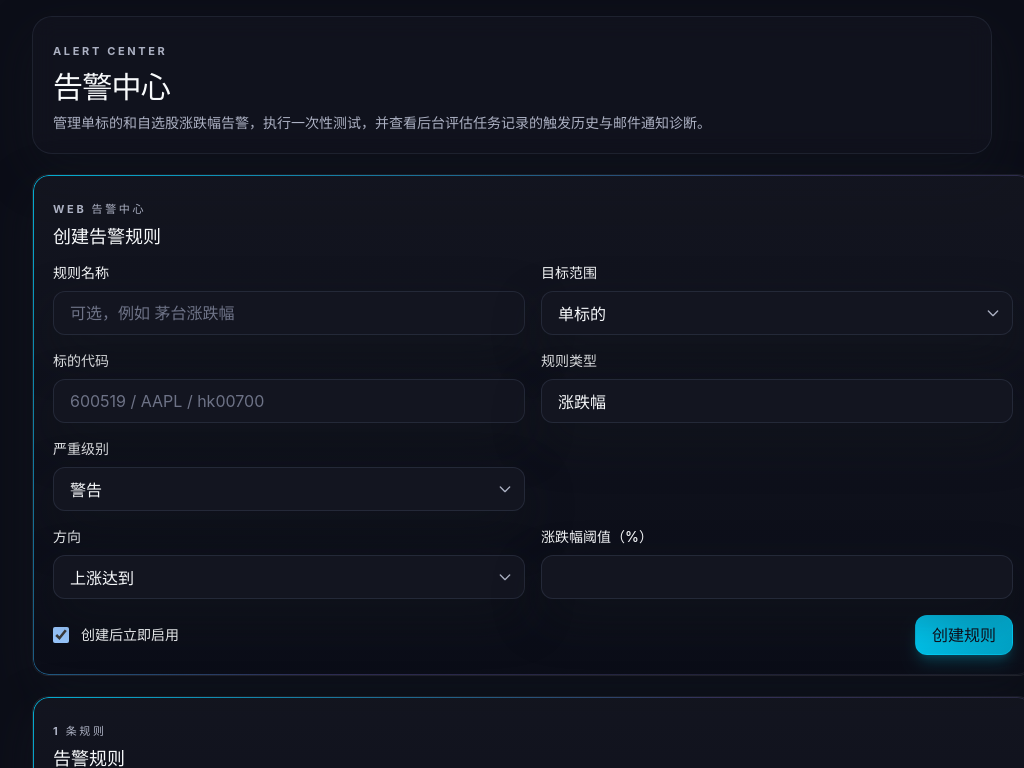
Test: AlertsPage › creates a rule through the page form and reloads rules
Type "aapl" into the field labelled "标的代码".
click(289, 401); type("aapl")  # box [53,379,525,423]
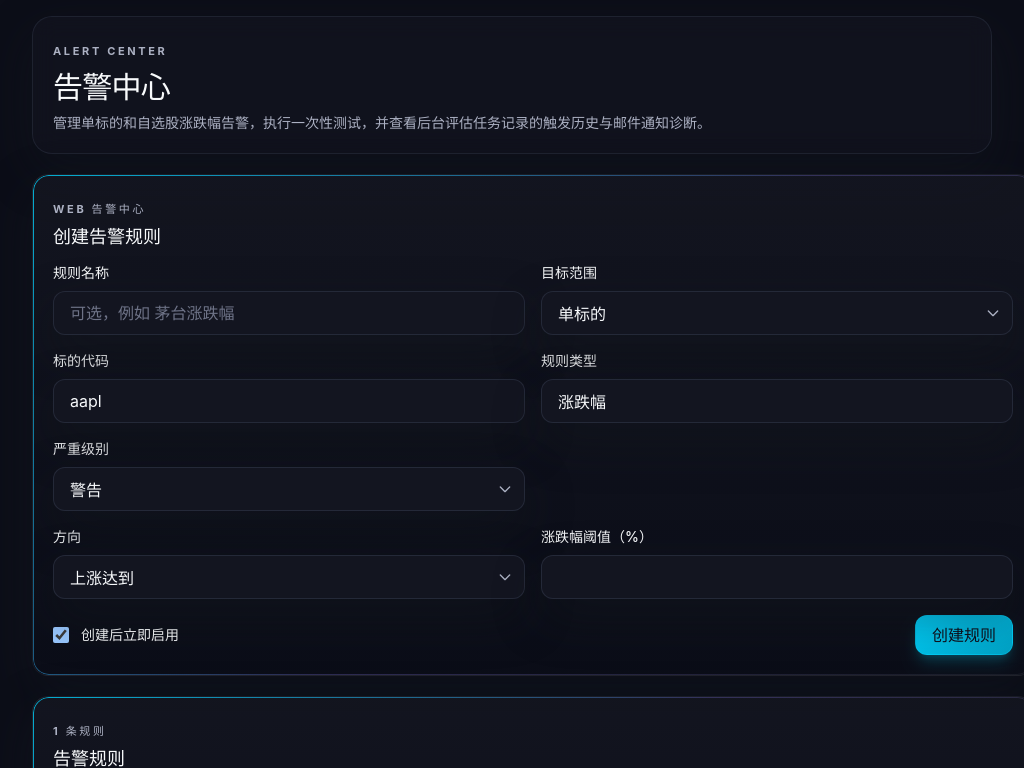
Type "2" into the number field labelled "涨跌幅阈值（%）".
click(777, 577); type("2")  # box [541,555,1013,599]
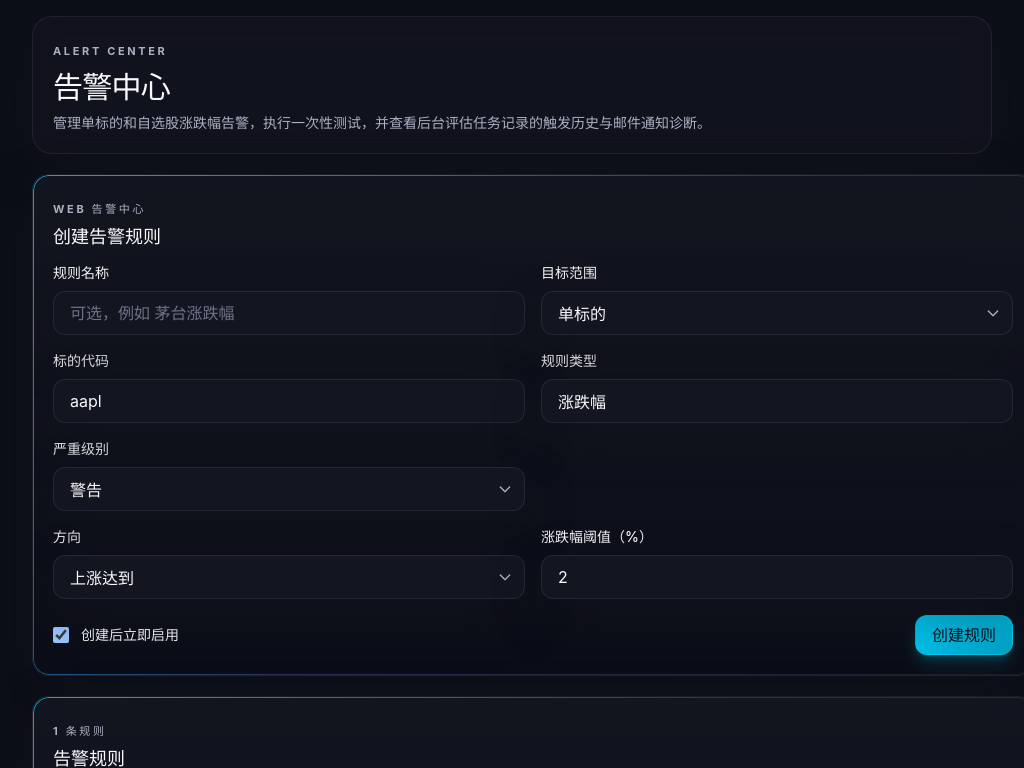
Click the button "创建规则".
click(964, 635)  # box [915,615,1013,655]
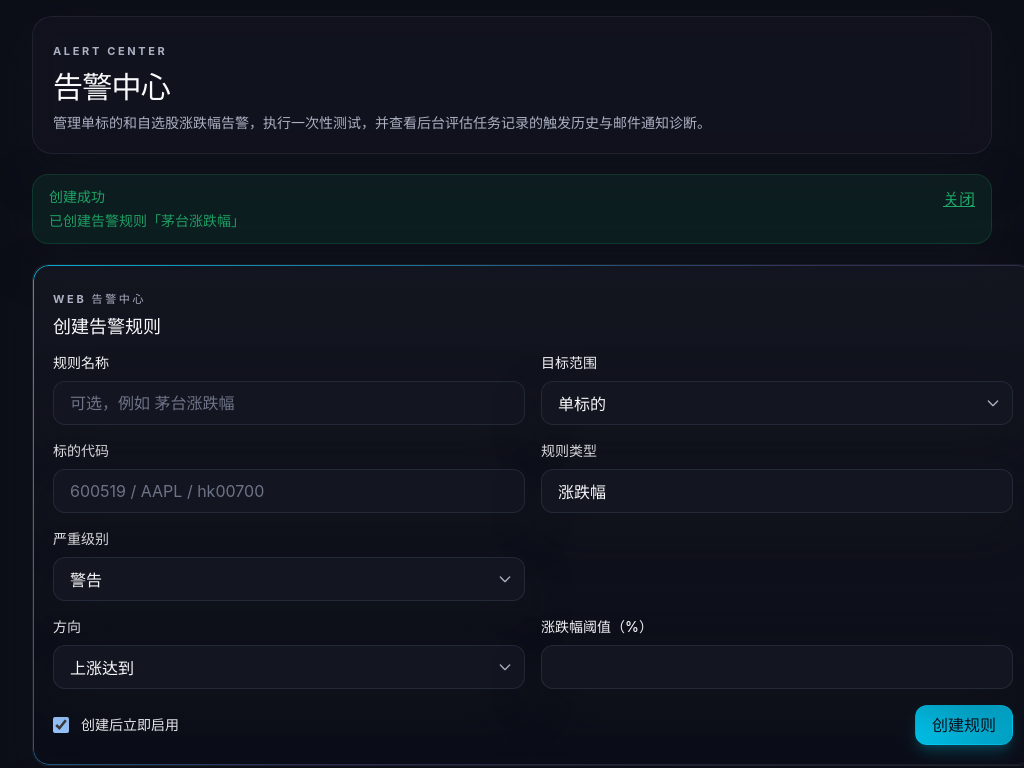
expect the text "已创建告警规则「茅台涨跌幅」" is shown: met, box [49,211,245,231]
